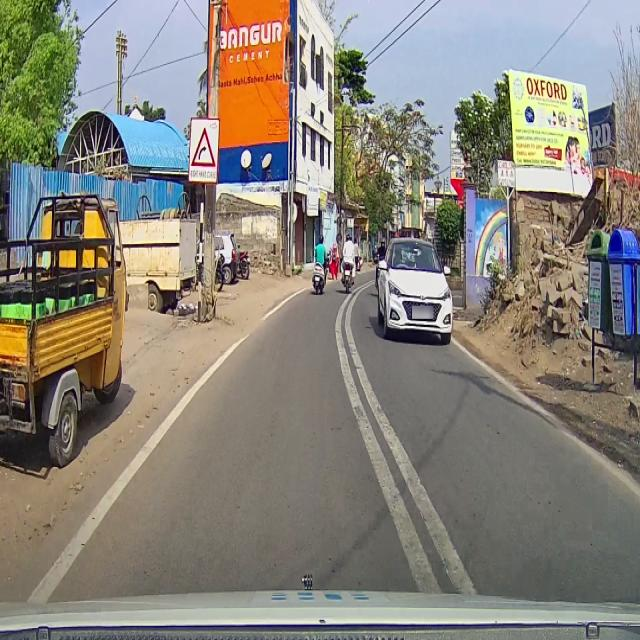car ahead at: (380, 226, 456, 348)
sign board ahead at: (178, 118, 228, 190)
truck ahead at: (5, 190, 129, 447)
